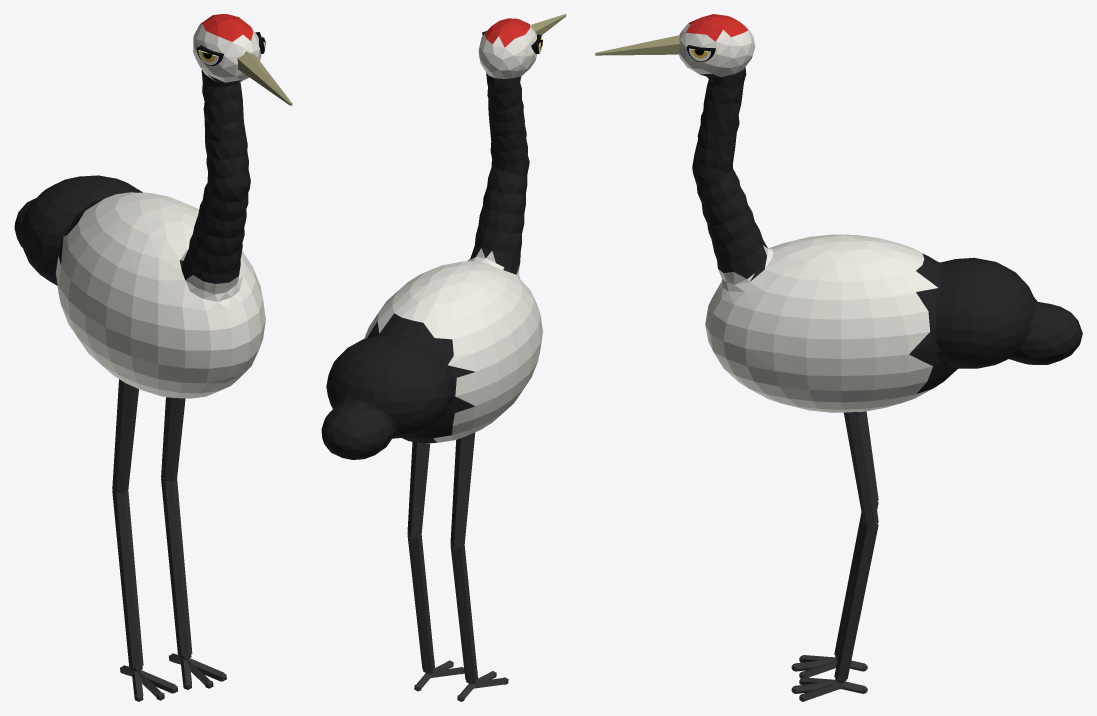
File: crane.glb
3 renders of one model, left to right at view 1: azimuth 30°, elevation 25°; view 2: azimuth 150°, elevation 25°; view 3: azimuth 270°, elevation 25°, orthographic. The views are drawn at different scales.
Parts seen in each view (by area): view 1: Crane; view 2: Crane; view 3: Crane.
Boxes of the visible parts, x1=… form: Crane: x1=14, y1=14, x2=292, y2=701; Crane: x1=321, y1=14, x2=566, y2=701; Crane: x1=595, y1=14, x2=1082, y2=701.
Size of the model in its own units: 0.4389 by 1.94 by 1.29.
